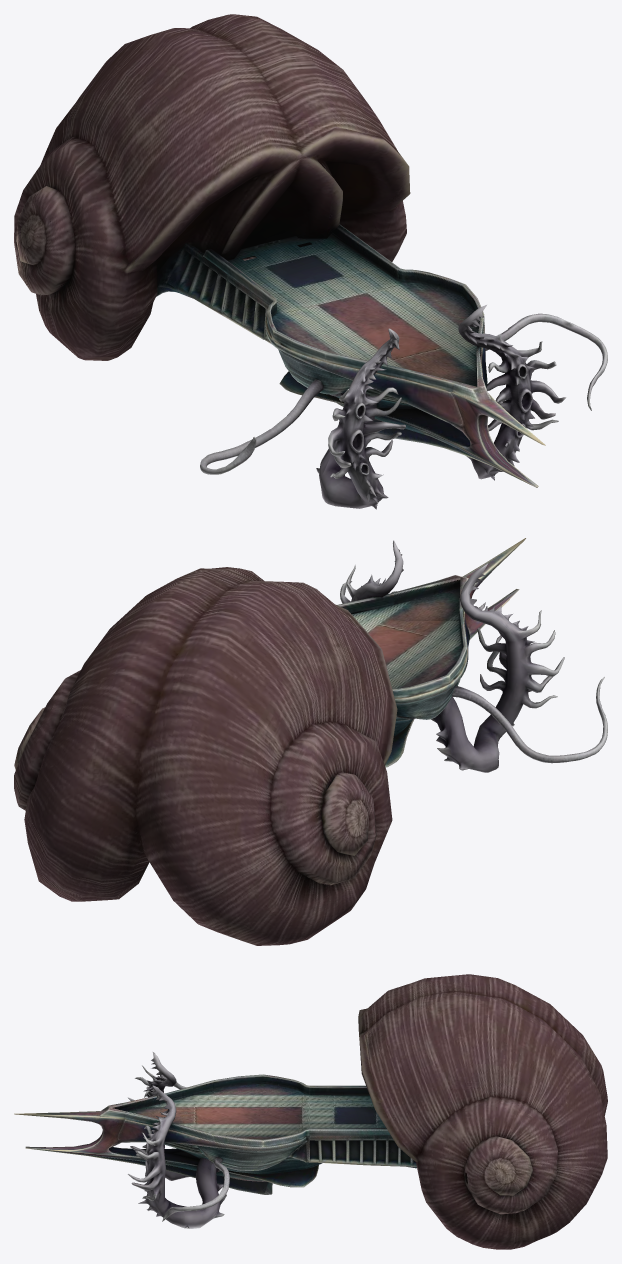
File: MZ4250_-_Nautiloid_Kitbashed_1K.glb
3 renders of one model, top to bottom at view 1: azimuth 30°, elevation 25°; view 2: azimuth 150°, elevation 25°; view 3: azimuth 270°, elevation 25°, orthographic. The views are drawn at different scales.
Visible parts, largest first — view 1: shell_low.001, ship_low.001, tent1_low.001, tent2_low.001, tent4_low.001, tent3_low.001; view 2: shell_low.001, ship_low.001, tent1_low.001, tent4_low.001, tent2_low.001; view 3: shell_low.001, ship_low.001, tent2_low.001, tent1_low.001, tent3_low.001.
Part boxes in pixels (x1,y1,x2,y2): shell_low.001: (14,14,410,360); ship_low.001: (156,224,545,487); tent1_low.001: (316,328,406,509); tent2_low.001: (458,305,566,480); tent4_low.001: (200,379,341,474); tent3_low.001: (485,313,607,410); shell_low.001: (14,567,397,945); ship_low.001: (337,538,525,767); tent1_low.001: (431,563,564,772); tent4_low.001: (452,677,607,763); tent2_low.001: (340,540,403,603); shell_low.001: (358,974,607,1249); ship_low.001: (14,1074,416,1194); tent2_low.001: (128,1085,226,1228); tent1_low.001: (128,1052,189,1180); tent3_low.001: (162,1156,229,1221).
Size of the model in its own units: 10.05 by 7.63 by 18.29.
Materials: 1 (1 with a texture image).
